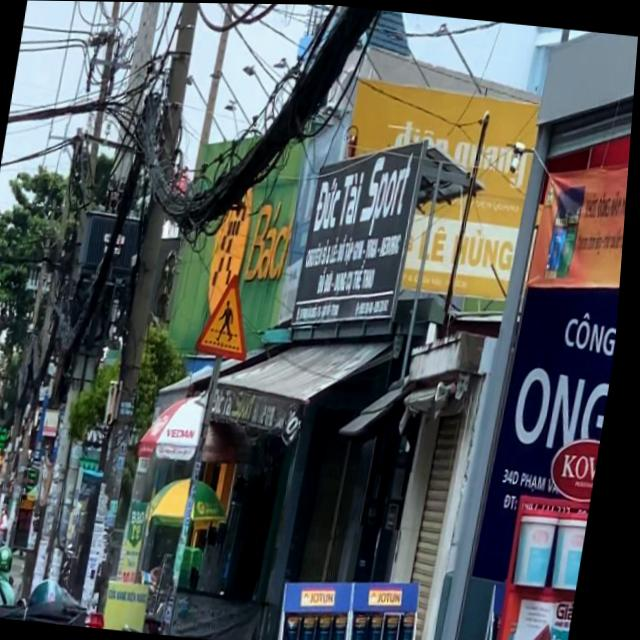Nguoi di bo cat ngang: (195, 263, 269, 367)
